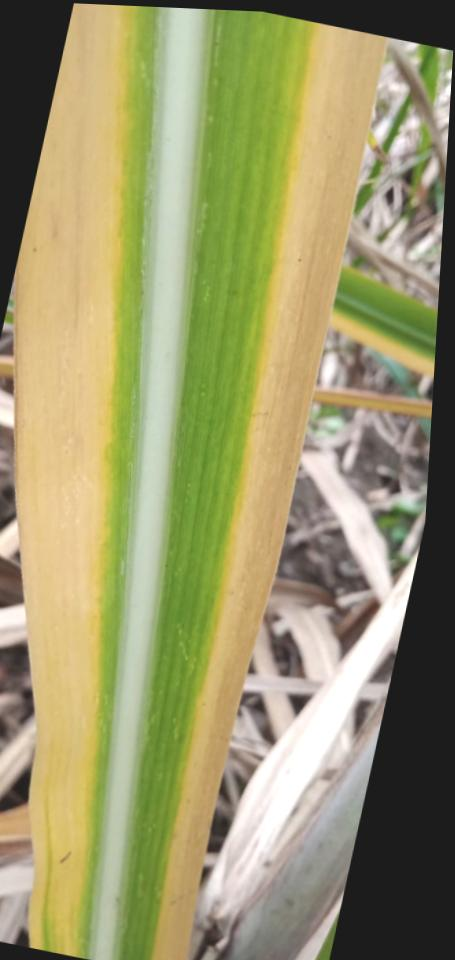Yellow: (149, 20, 385, 960), (13, 3, 138, 957)
